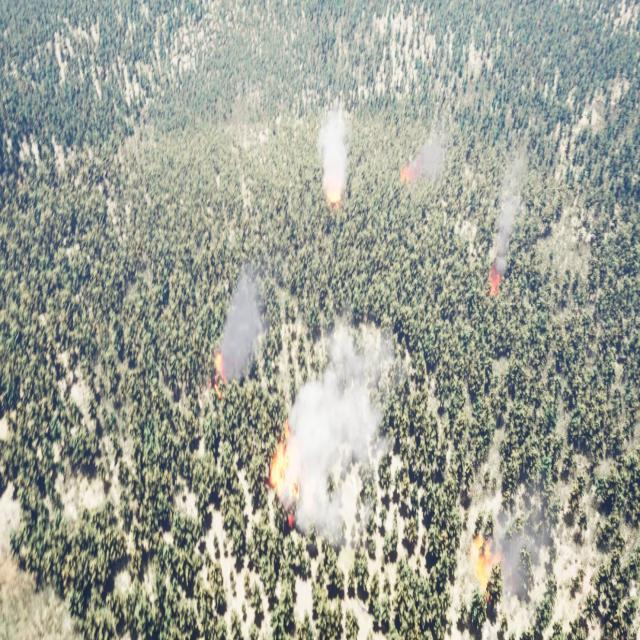fire: (262, 421, 304, 510), (472, 534, 501, 594), (326, 179, 348, 214), (212, 344, 227, 392), (486, 265, 503, 306), (394, 162, 418, 188)
smoke: (288, 325, 403, 548), (485, 522, 543, 616), (218, 268, 261, 382), (492, 152, 530, 263), (316, 110, 358, 186), (416, 138, 443, 186)
